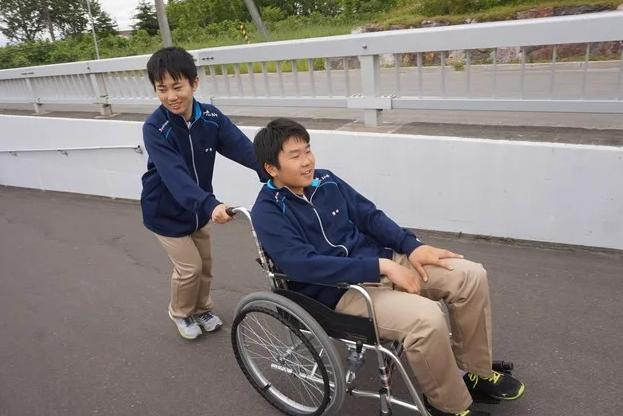push_wheelchair: (140, 46, 295, 339)
wheelchair: (219, 118, 526, 416)
